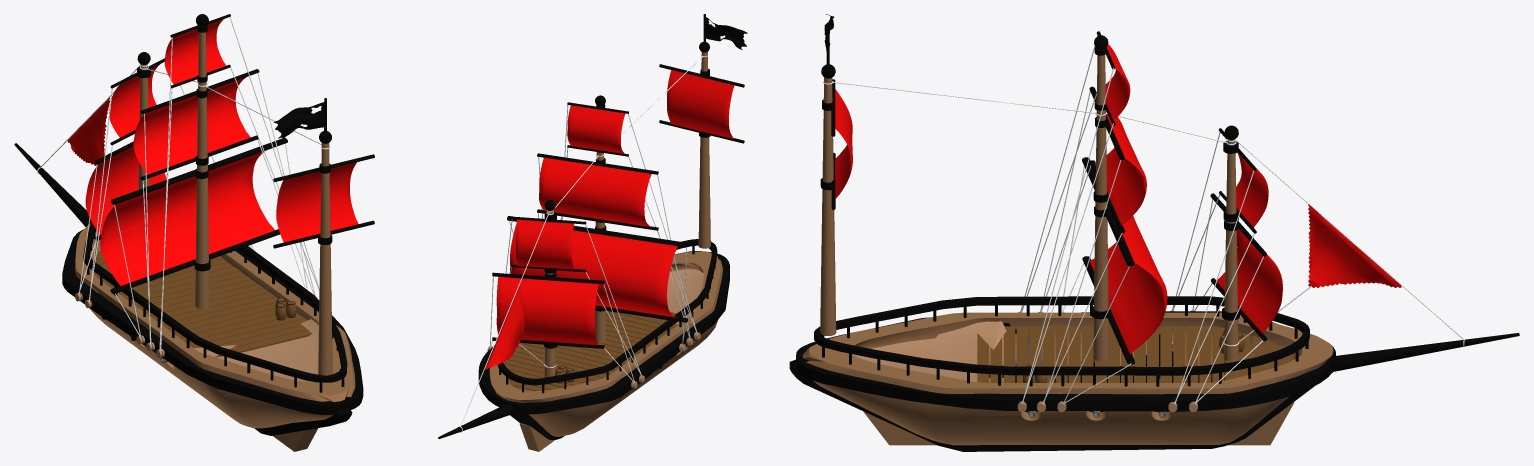
Rendered from smolPirateShip.glb.
3 views of the same model, side by side, from view 1: azimuth 30°, elevation 25°; view 2: azimuth 150°, elevation 25°; view 3: azimuth 270°, elevation 25° (orthographic). The views are drawn at different scales.
Parts seen in each view (by area): view 1: Polygon_Reduction_1; view 2: Polygon_Reduction_1; view 3: Polygon_Reduction_1.
Boxes of the visible parts, box(x1,y1,x2,y2) form: Polygon_Reduction_1: box(14, 14, 374, 451); Polygon_Reduction_1: box(438, 14, 747, 451); Polygon_Reduction_1: box(789, 14, 1519, 451).
Bounding box in the file's own units: 15.22 × 28.29 × 45.55.
